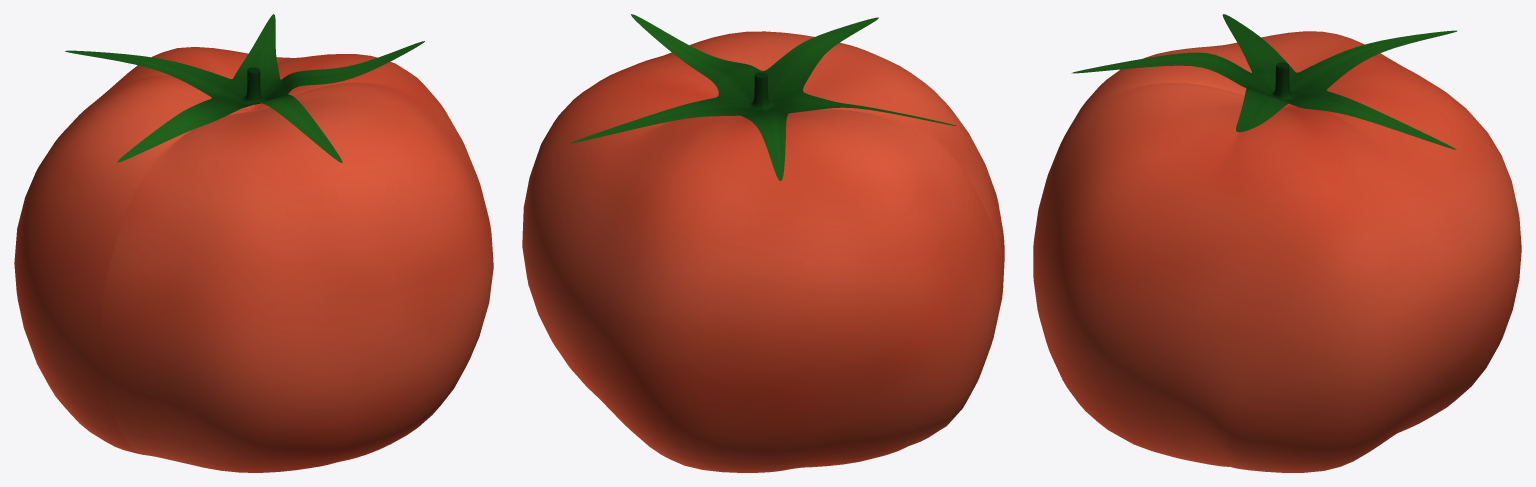
File: tomato.glb
3 renders of one model, left to right at view 1: azimuth 30°, elevation 25°; view 2: azimuth 150°, elevation 25°; view 3: azimuth 270°, elevation 25°, orthographic. The views are drawn at different scales.
Visible parts, largest first — view 1: tomato, tomato.leaf; view 2: tomato, tomato.leaf; view 3: tomato, tomato.leaf.
Part boxes in pixels (x1,y1,x2,y2): tomato: [14, 47, 493, 472]; tomato.leaf: [65, 14, 424, 162]; tomato: [522, 31, 1004, 472]; tomato.leaf: [570, 14, 956, 181]; tomato: [1033, 31, 1521, 472]; tomato.leaf: [1071, 14, 1457, 149].
Size of the model in its own units: 0.076 by 0.0609 by 0.0749.
1 material, 1 textured.
